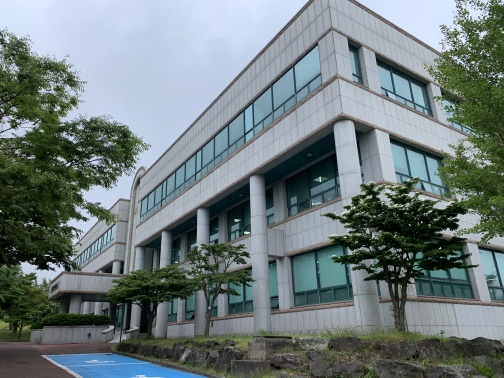Second Library: (159, 31, 500, 343), (46, 174, 255, 346)
